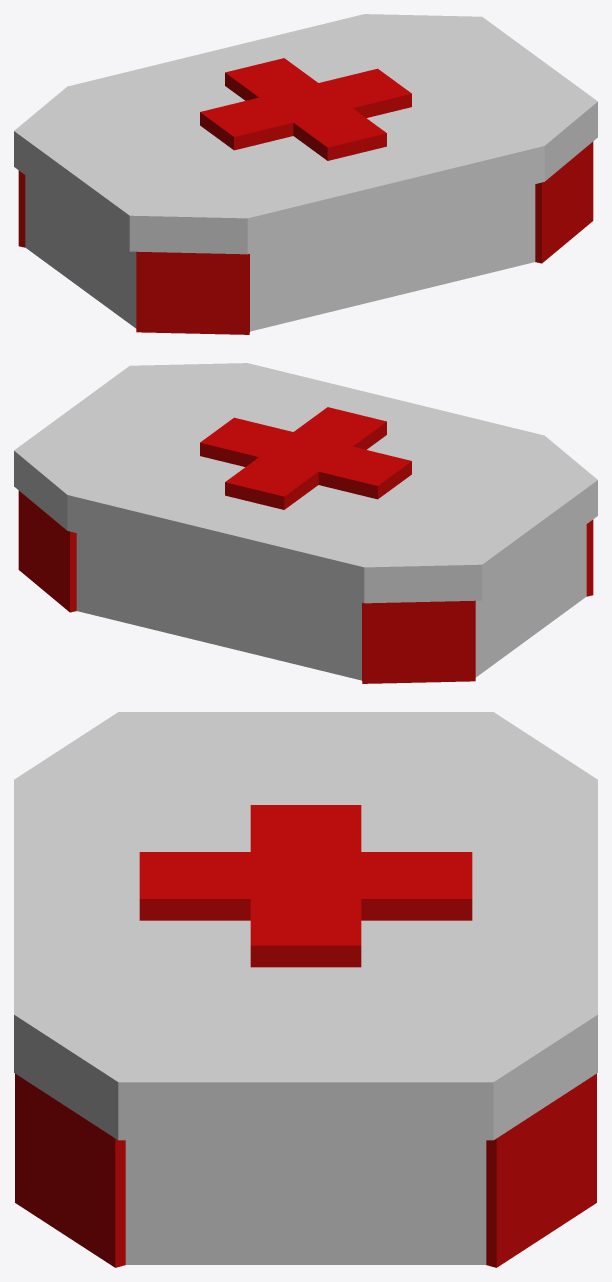
File: HealthPack_01.fbx
The picture shows the model from 3 angles, top to bottom: view 1: azimuth 30°, elevation 25°; view 2: azimuth 150°, elevation 25°; view 3: azimuth 270°, elevation 25°; orthographic projection. The views are drawn at different scales.
Visible parts, largest first — view 1: polySurface1; view 2: polySurface1; view 3: polySurface1.
Boxes of the visible parts, bbox=[...] form: polySurface1: bbox=[14, 14, 597, 334]; polySurface1: bbox=[14, 363, 597, 683]; polySurface1: bbox=[14, 712, 597, 1267].
Bounding box in the file's own units: 15.12 × 4.03 × 10.08.
